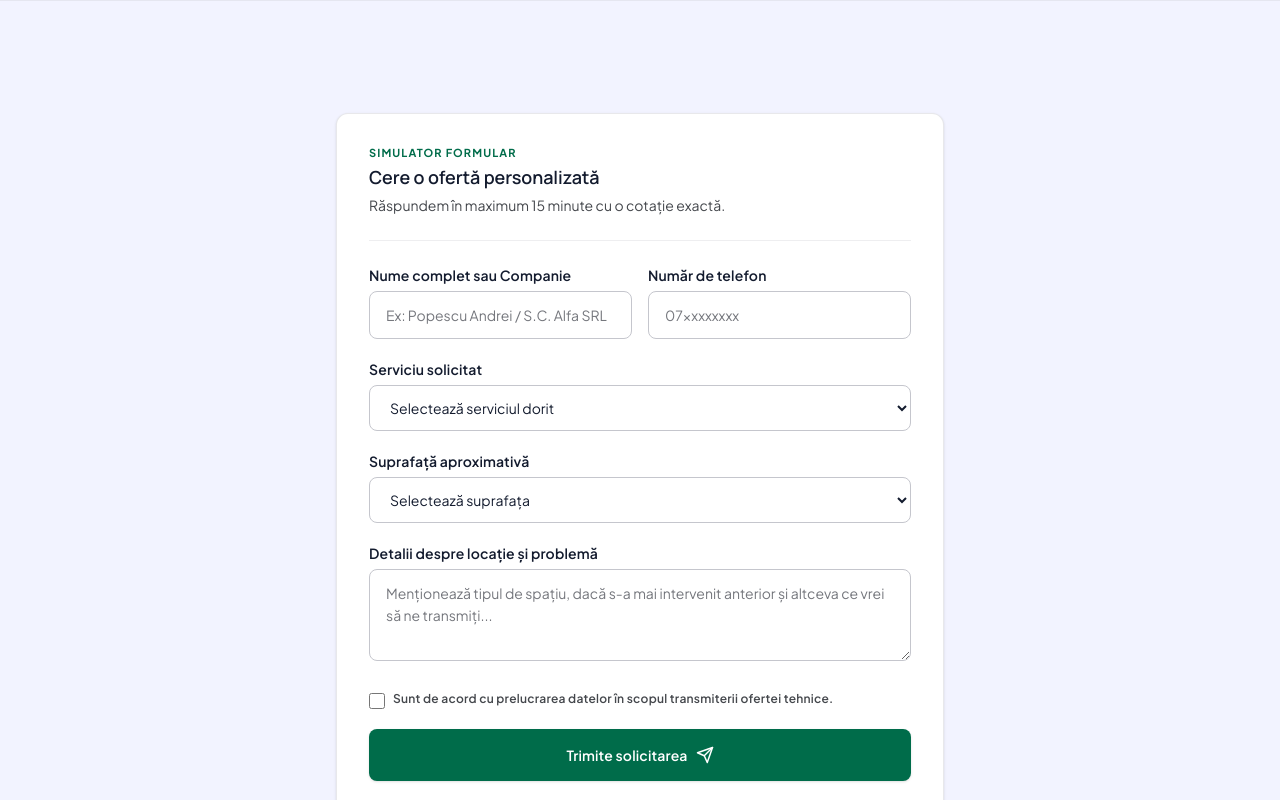
ContactForm › shows the error banner and required-field messages on empty submit
Click the button "Trimite solicitarea": click(640, 755) [369,729,911,781]
(page scrolled)
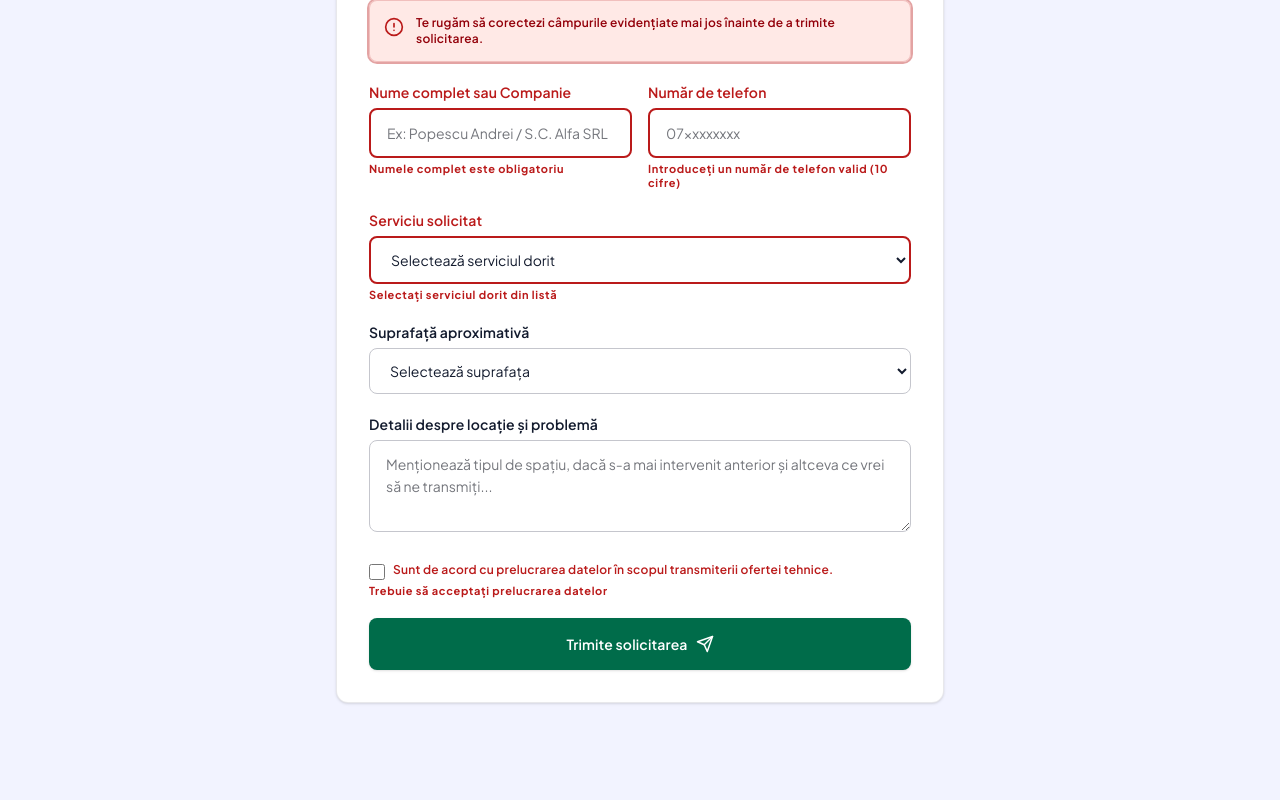
Now the message is shown, box [369,0,911,62]
Now the text "Numele complet este obligatoriu" is shown, box [369,162,564,175]
Now the text "Introduceți un număr de telefon valid (10 cifre)" is shown, box [648,162,911,190]
